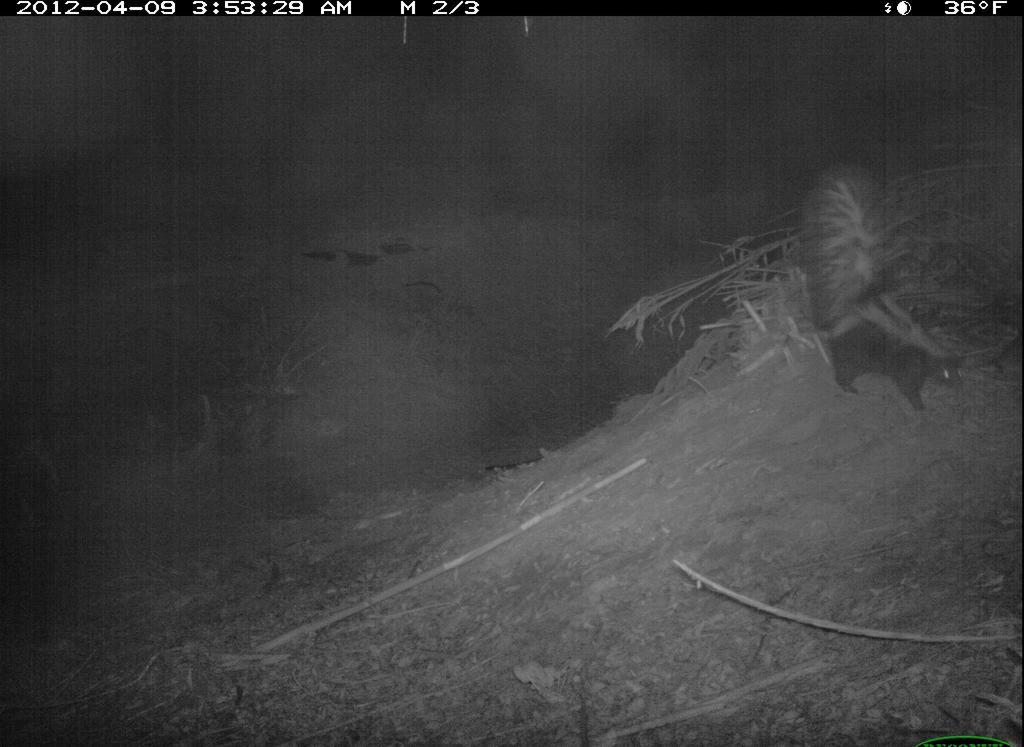skunk: (793, 163, 969, 415)
